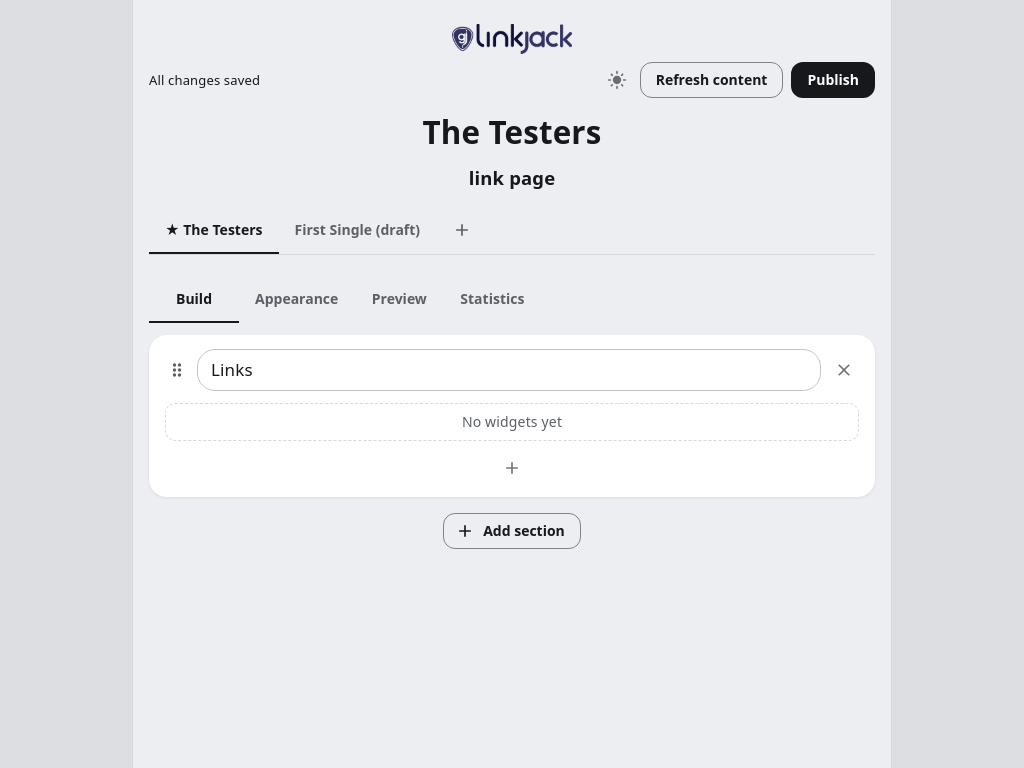
Test case: Editor workflow › switches pages after flushing the draft and deletes a release confirmed in a dialog
Click the tab "First Single (draft)" at (357, 230), box [278, 206, 436, 254]
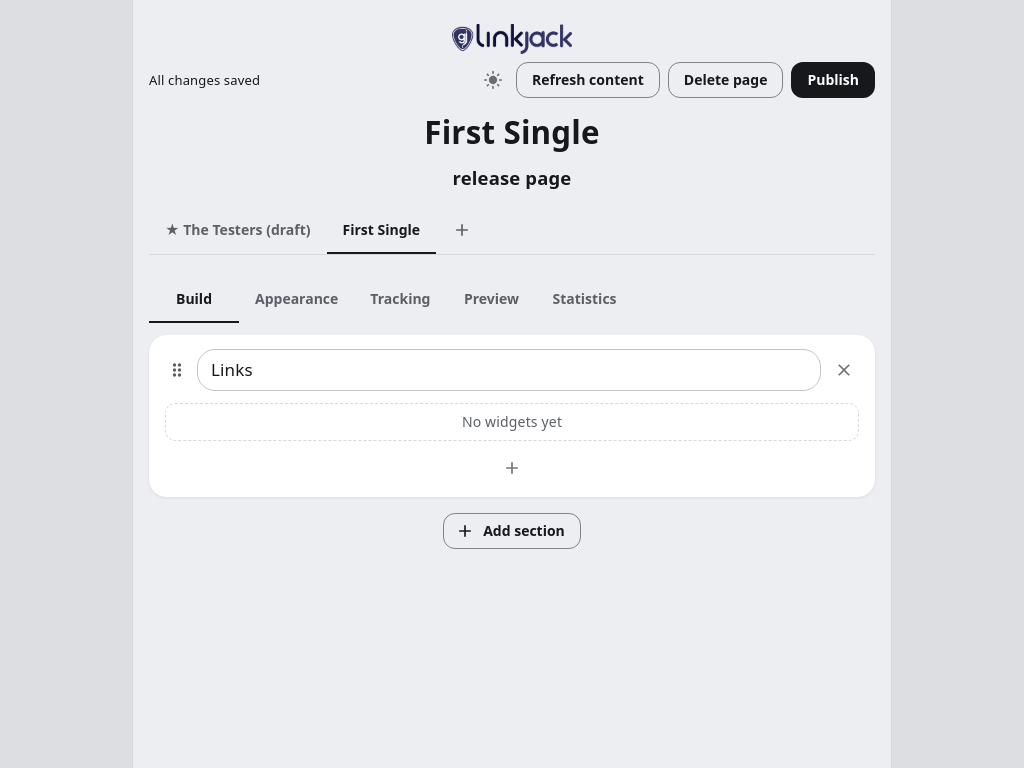
Expected: the heading "release page" is shown, [453, 165, 571, 190]
Click the button "Delete page" at (726, 80), box [668, 62, 783, 98]
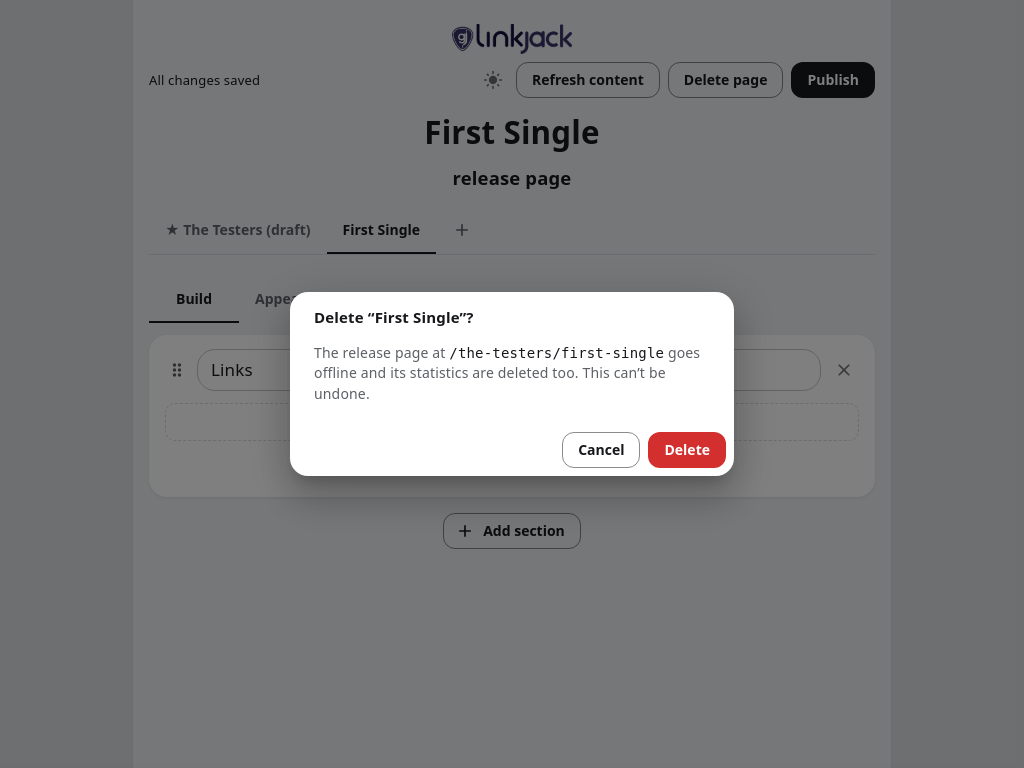
Click the button "Cancel" at (601, 450), box [562, 432, 640, 468]
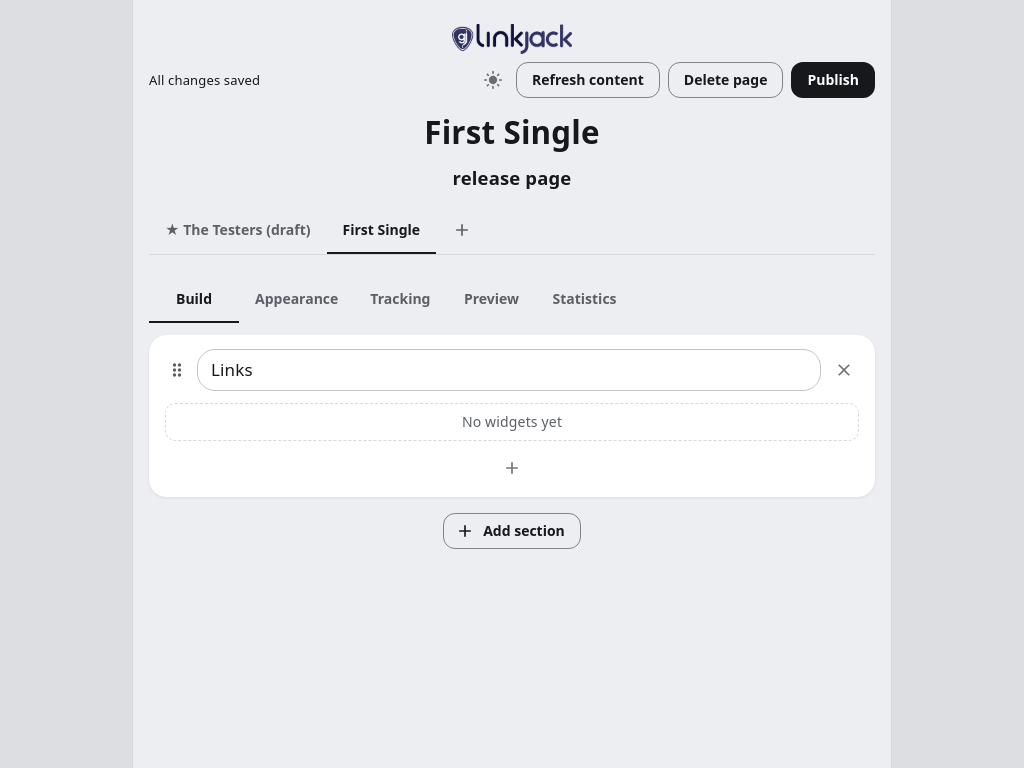
Click the button "Delete page" at (726, 80), box [668, 62, 783, 98]
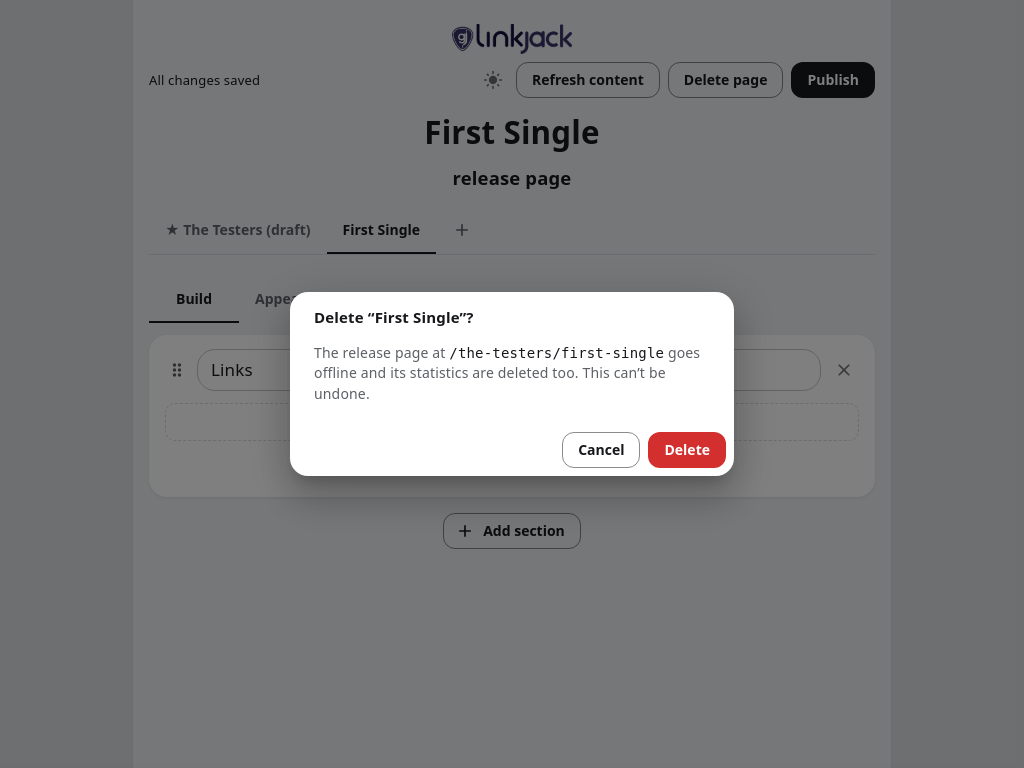
Click the button "Delete" at (687, 450), box [648, 432, 726, 468]
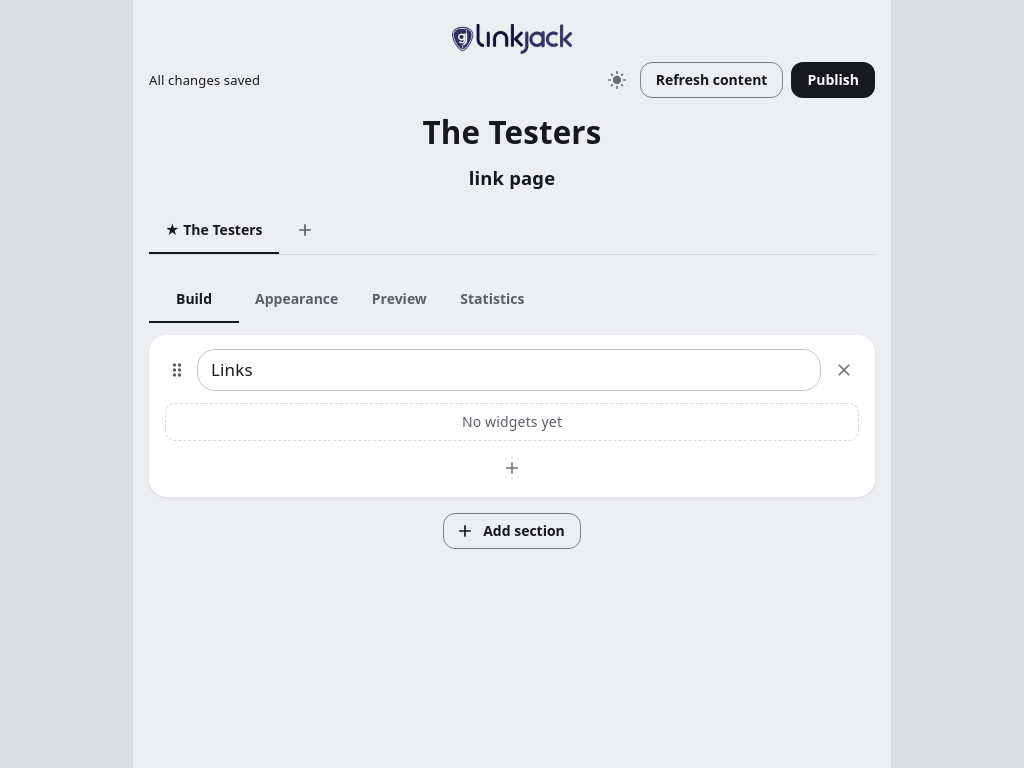
Expected: the heading "link page" is shown, [469, 165, 555, 190]
